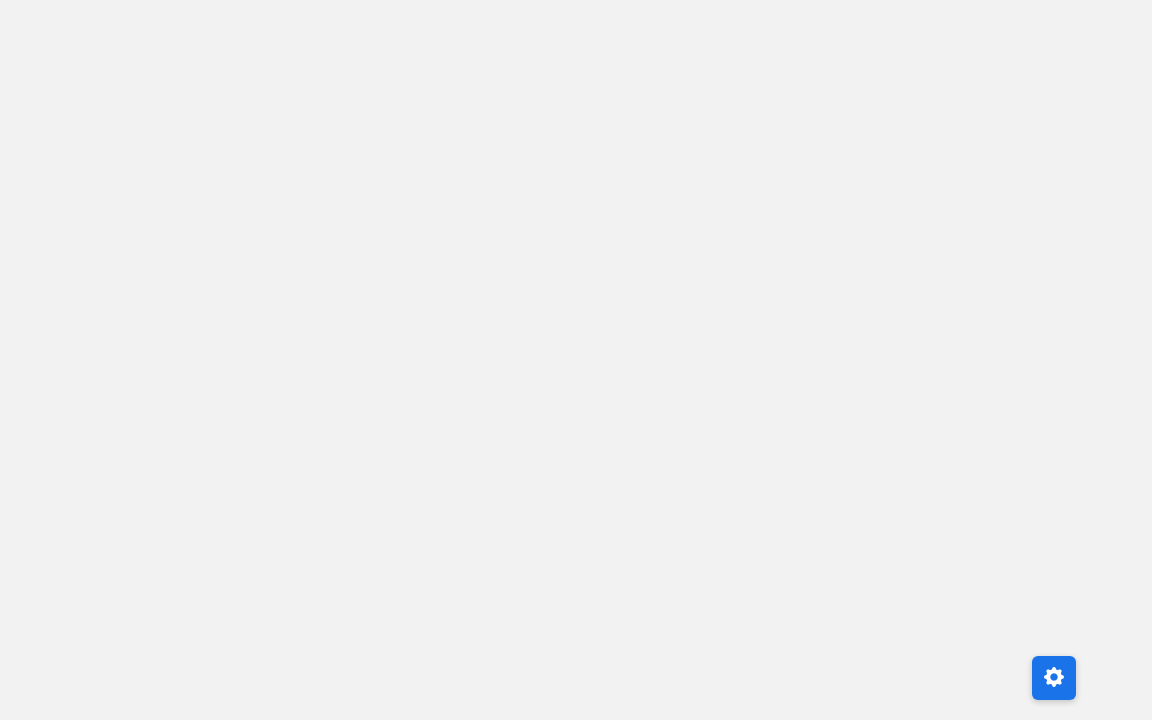
Test case: Settings › is closed until the gear button is clicked
Click the button named "Settings".
click(1054, 678)  # box [1032,656,1076,700]
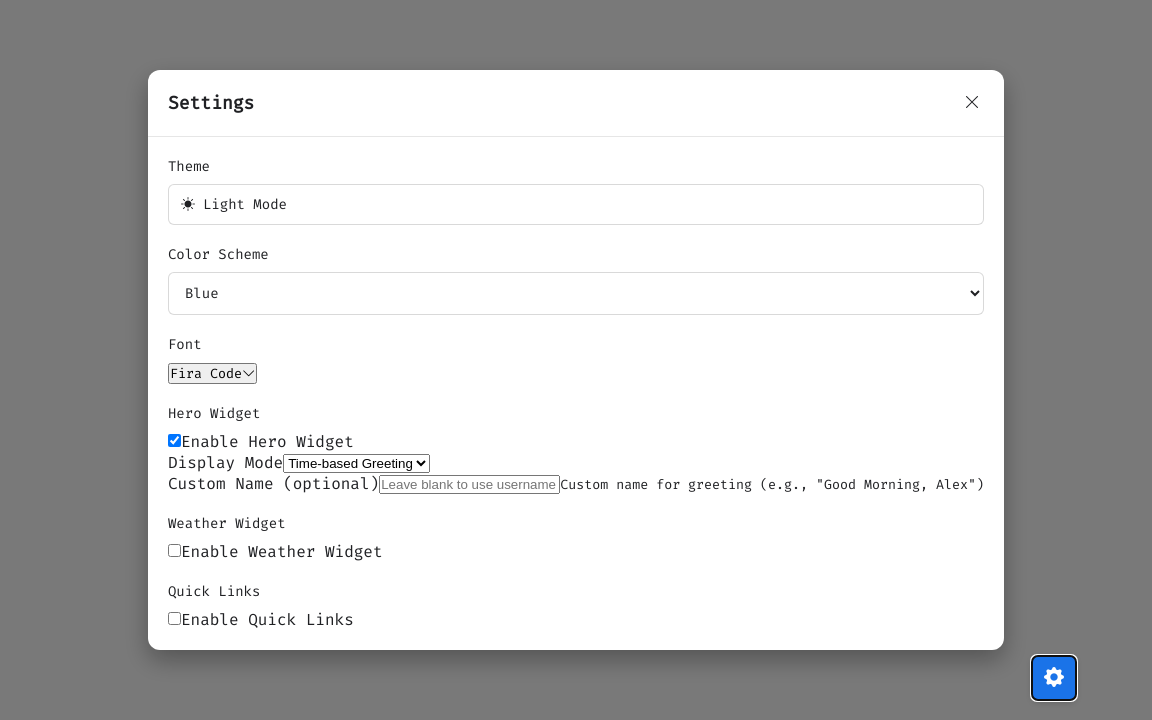
Expected: the dialog "Settings" is shown, [148,70,1004,650]
